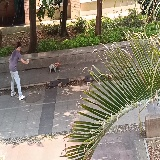fire: (55, 62, 61, 66)
